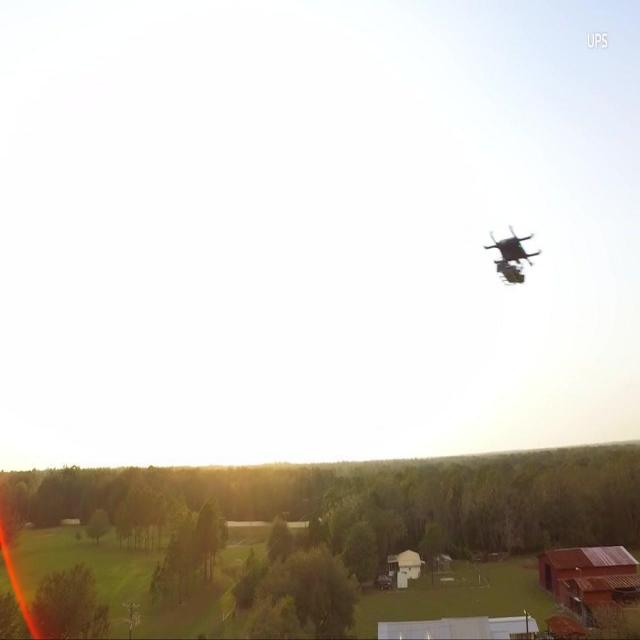UAV: (483, 226, 542, 285)
